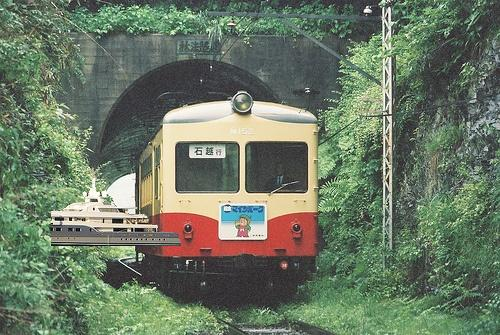tampered: (52, 179, 181, 246)
